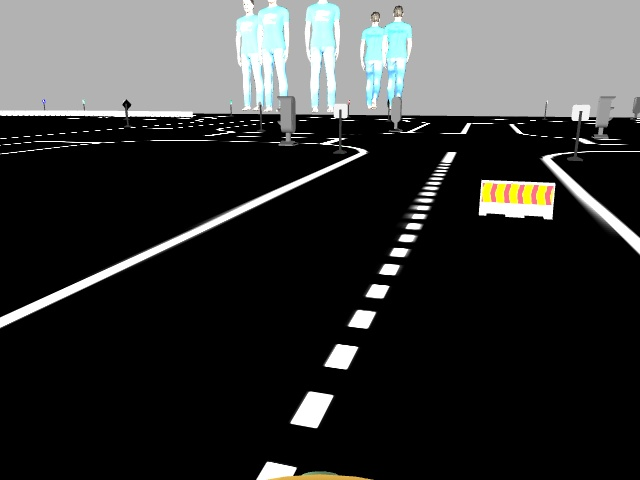ClosedRoadStand: (481, 180, 552, 216)
